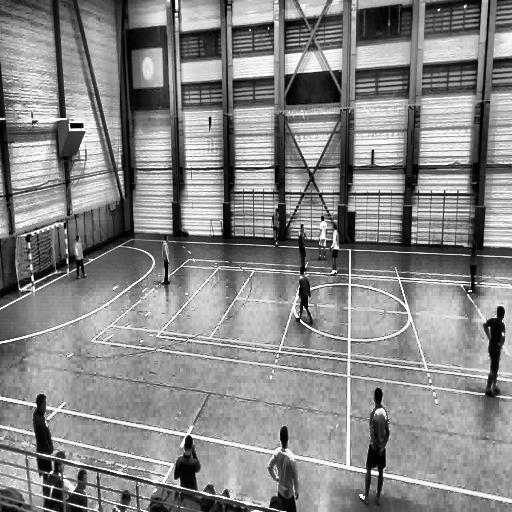ball: (275, 242, 278, 246)
player: (356, 389, 389, 504), (267, 426, 296, 512), (32, 398, 54, 496), (482, 303, 505, 392), (298, 264, 312, 325), (464, 234, 478, 294), (74, 235, 87, 279), (330, 222, 340, 275), (298, 225, 308, 267), (162, 234, 170, 285), (318, 215, 327, 260), (272, 208, 279, 245)
